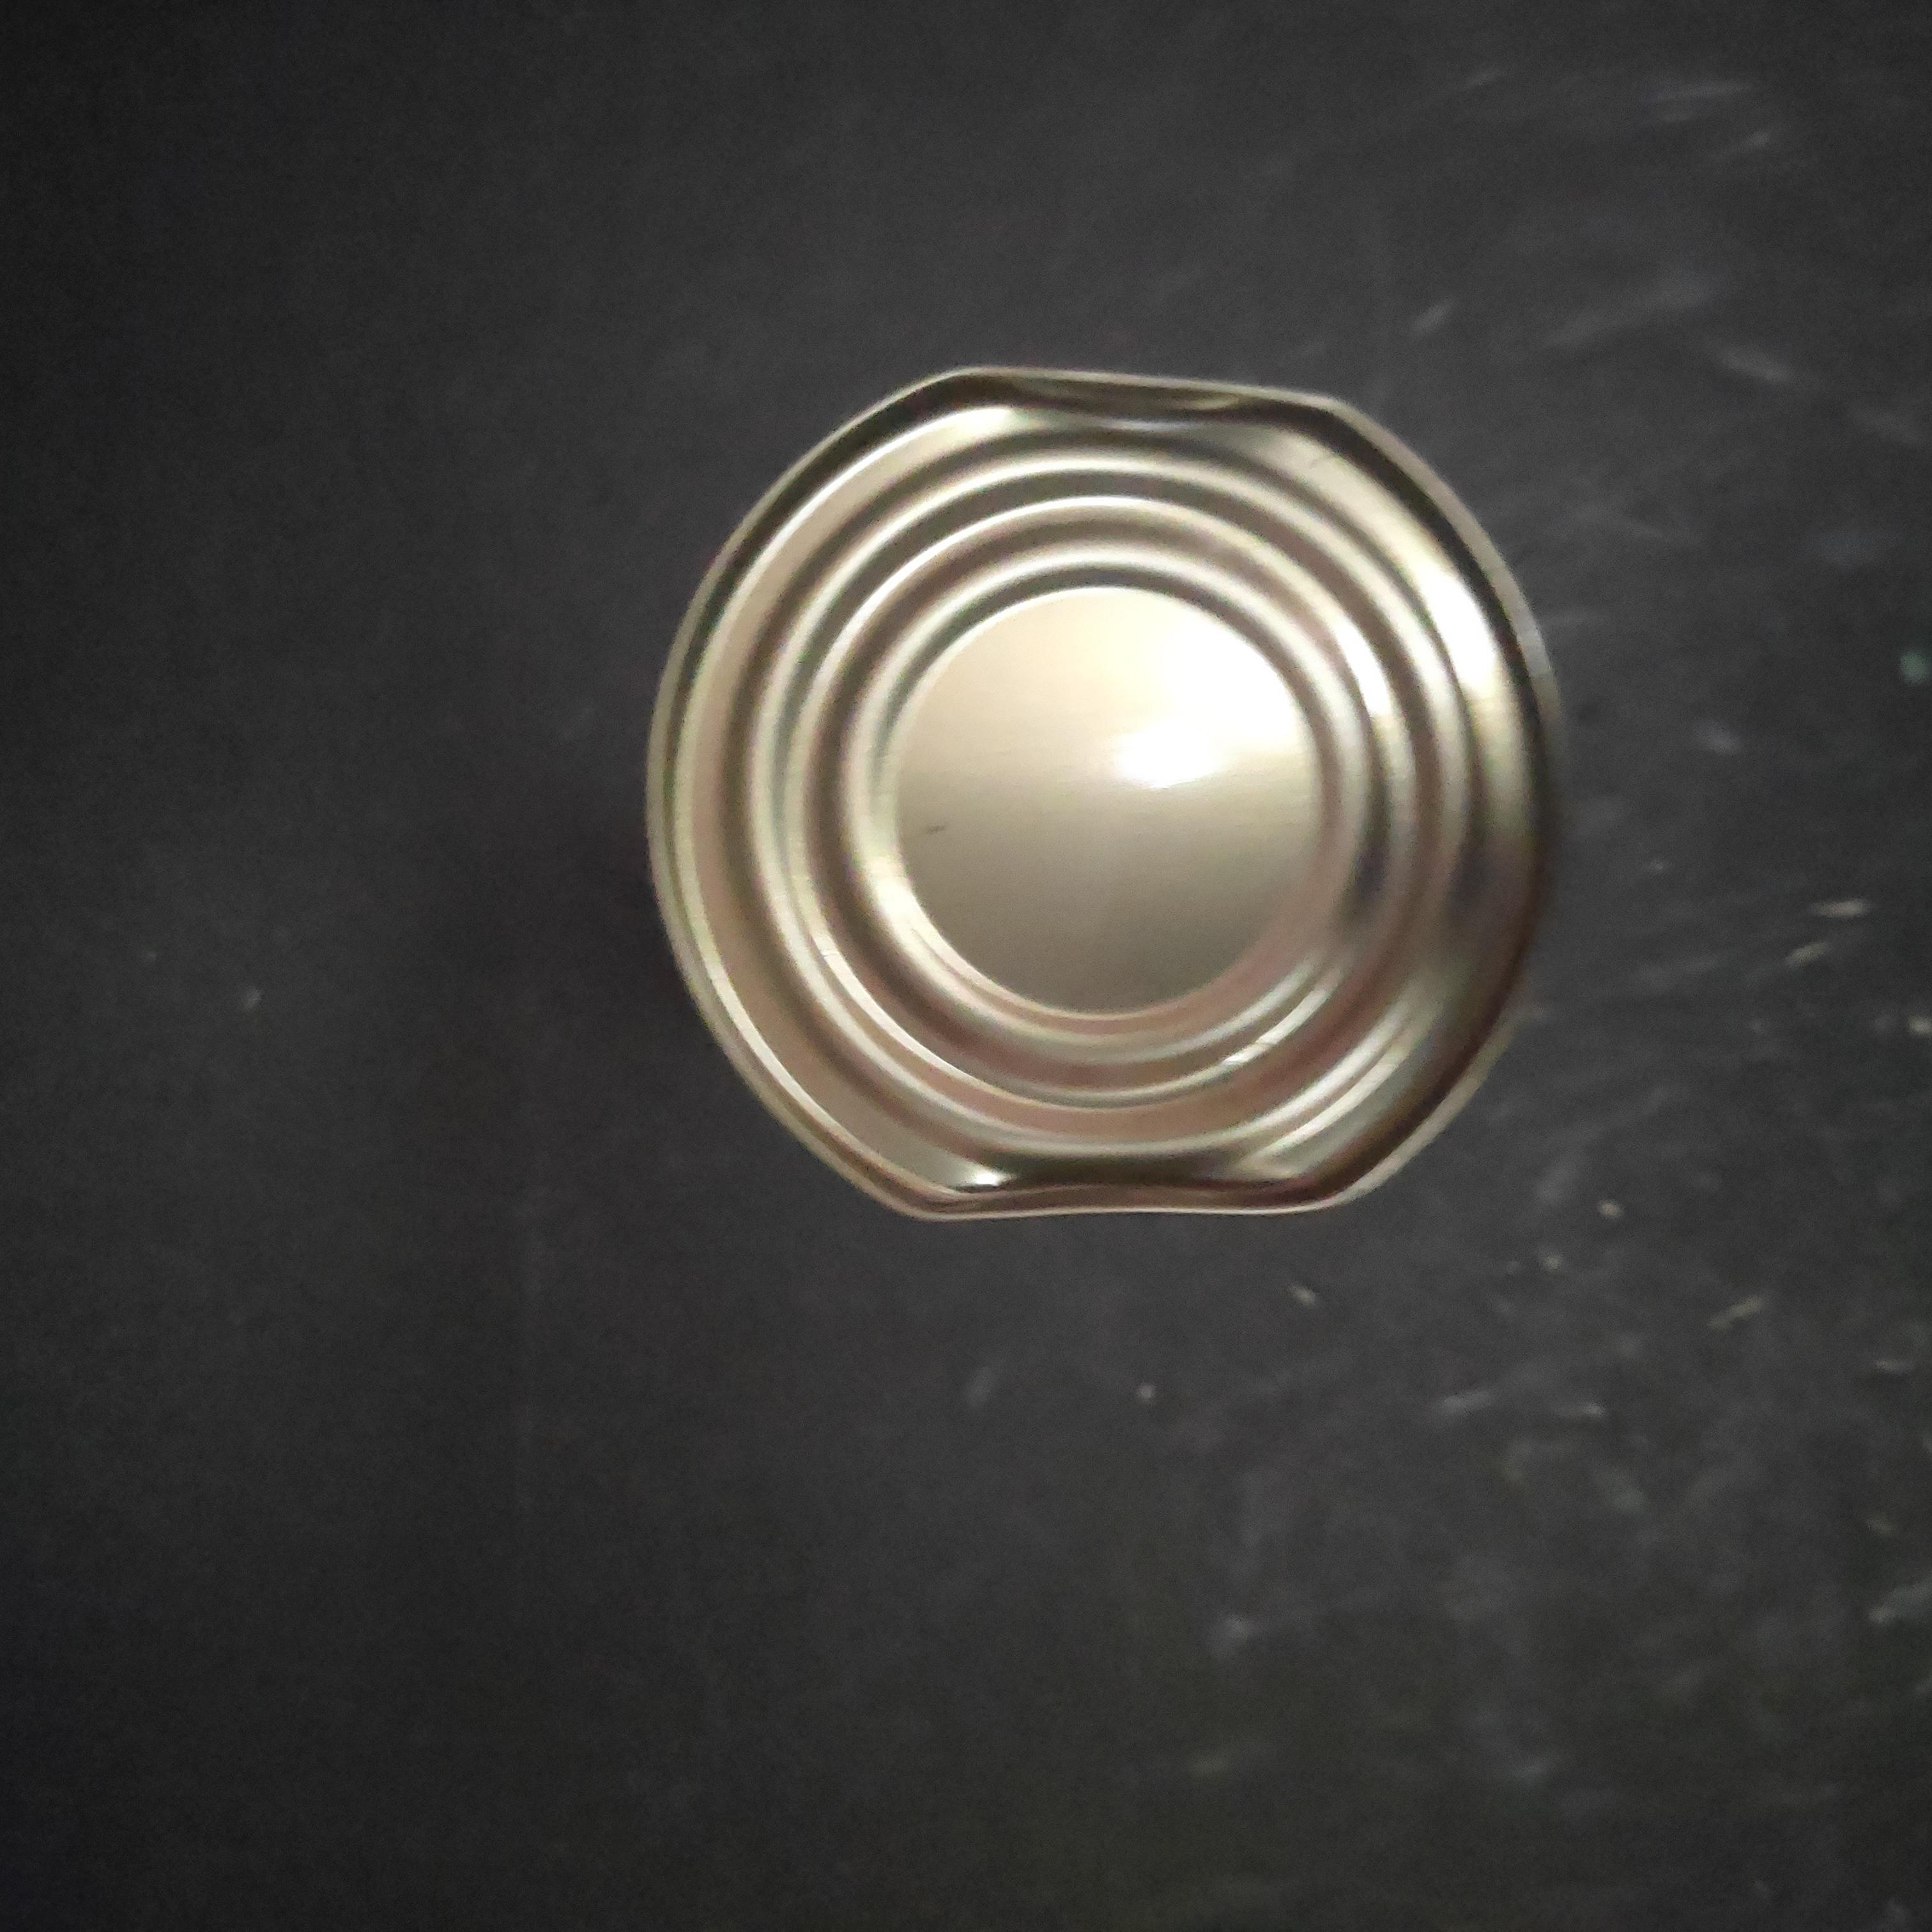Minor Defect: (340, 697, 1313, 1596)
